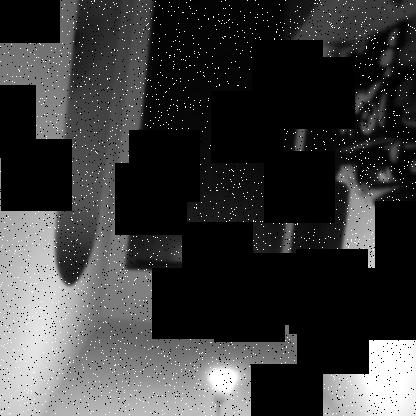Porte: (122, 0, 310, 281)
